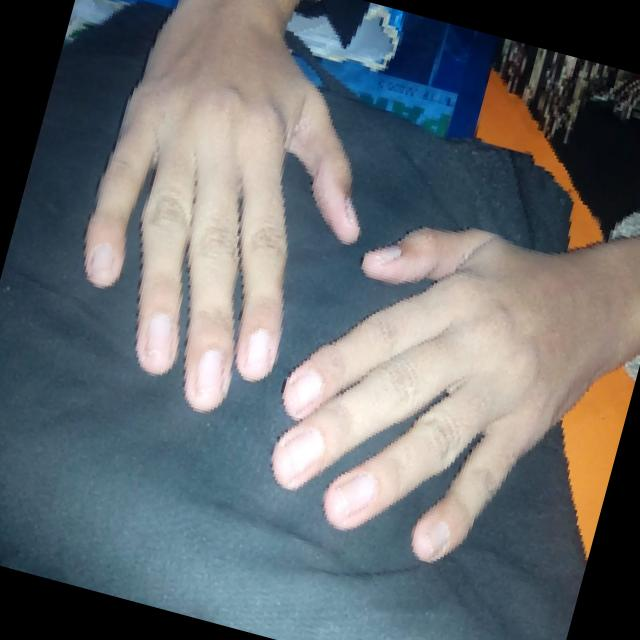Nail: (272, 429, 324, 479), (324, 472, 377, 518), (142, 312, 173, 374), (195, 348, 224, 406), (287, 370, 322, 407), (417, 522, 450, 561), (244, 329, 271, 376), (88, 242, 116, 287), (368, 244, 401, 263), (345, 198, 358, 227)
